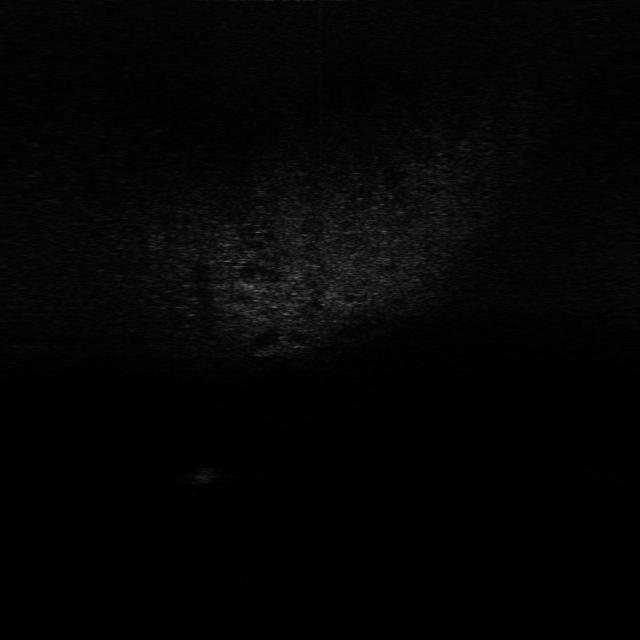cylinder: (189, 464, 223, 487)
